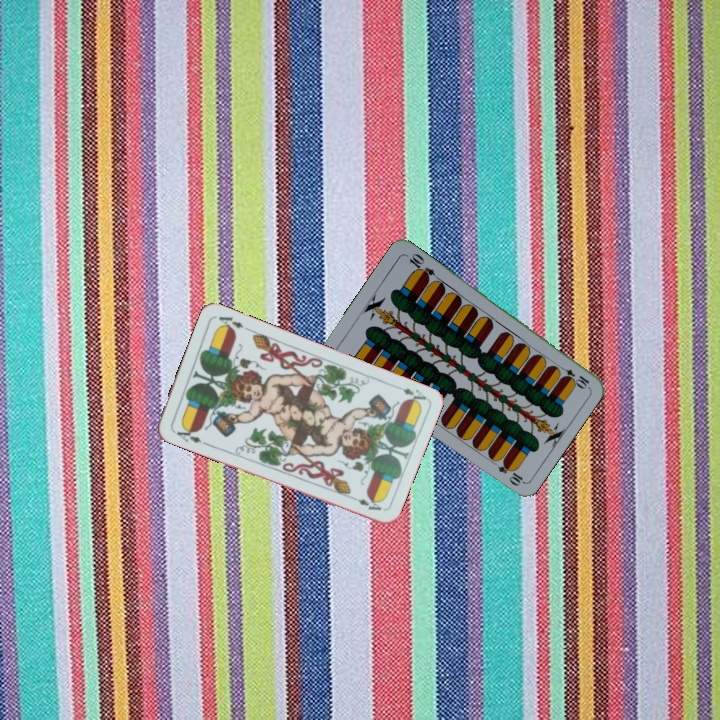E10: (554, 362, 592, 390)
EA: (169, 422, 208, 447), (398, 384, 429, 407)
